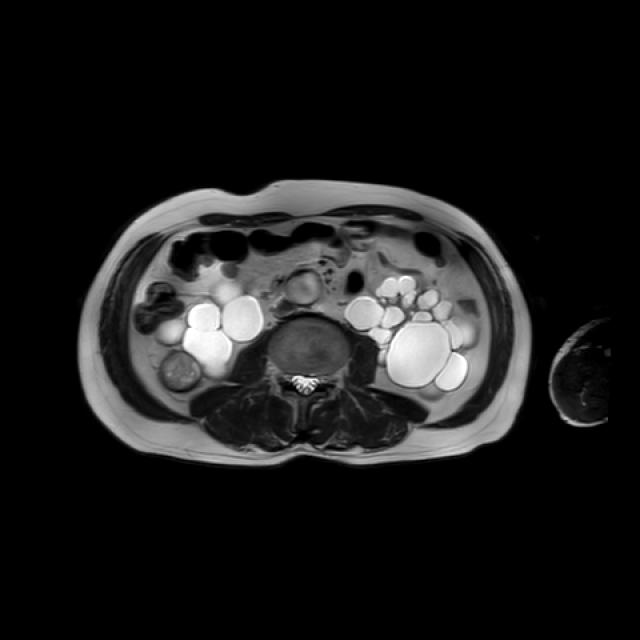sag: (156, 279, 263, 388)
sol: (346, 273, 478, 400)
